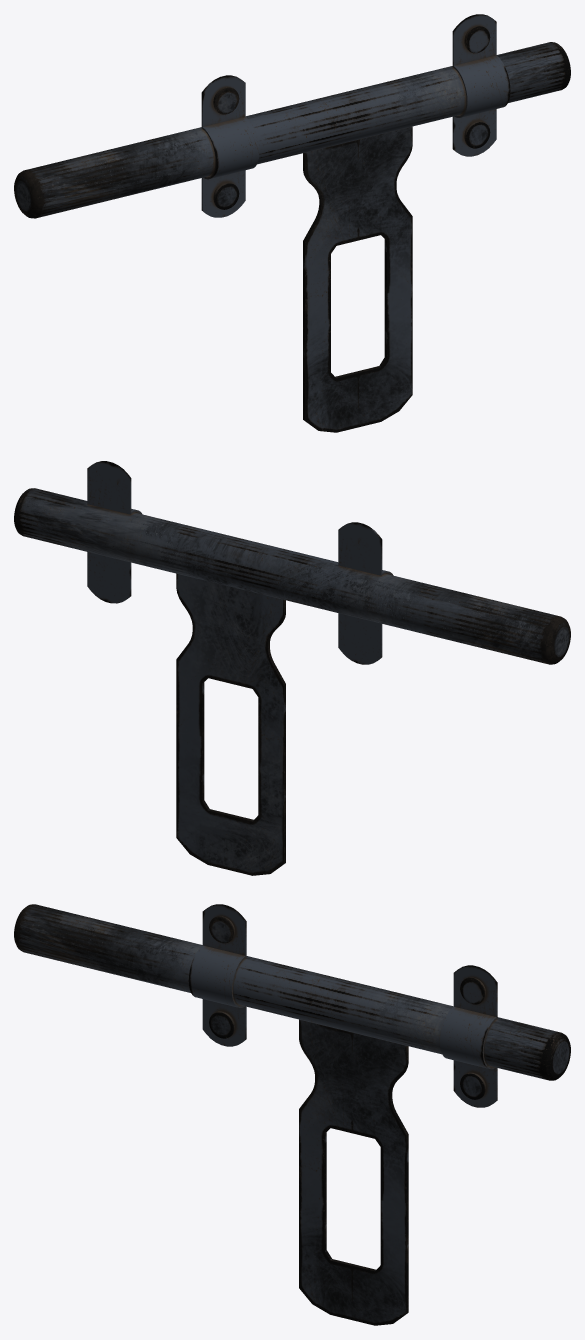
File: Old padlock door.fbx
3 views of the same model, one above another, from view 1: azimuth 30°, elevation 25°; view 2: azimuth 150°, elevation 25°; view 3: azimuth 330°, elevation 25° (orthographic).
Visible parts, largest first — view 1: Lock_handle_mesh, Lock_handle_mask_mesh; view 2: Lock_handle_mesh, Lock_handle_mask_mesh; view 3: Lock_handle_mesh, Lock_handle_mask_mesh.
Boxes of the visible parts, x1,y1,x2,y2 form: Lock_handle_mesh: [14, 42, 570, 432]; Lock_handle_mask_mesh: [201, 14, 510, 217]; Lock_handle_mesh: [14, 488, 570, 875]; Lock_handle_mask_mesh: [87, 461, 393, 664]; Lock_handle_mesh: [14, 904, 570, 1325]; Lock_handle_mask_mesh: [188, 904, 497, 1107].
Size of the model in its own units: 15 by 10.13 by 1.27.
